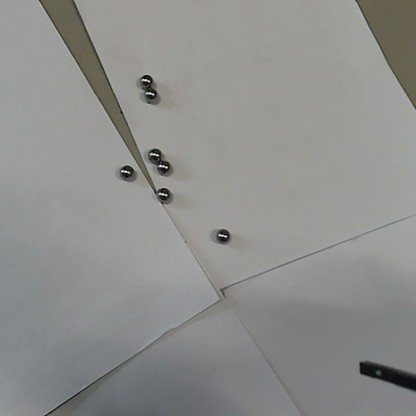ironball: (118, 164, 133, 180), (156, 185, 169, 201), (215, 228, 229, 242), (147, 146, 160, 161), (156, 159, 169, 172), (138, 74, 151, 87), (144, 87, 155, 99)
